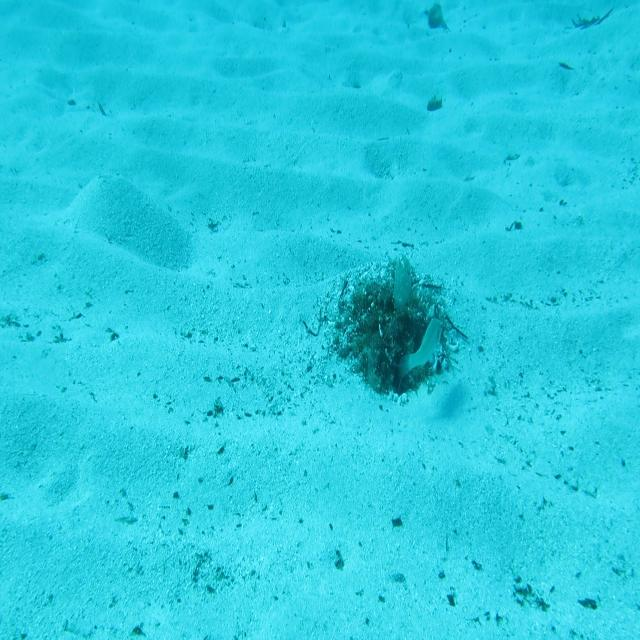NIP_CORE: (391, 249, 413, 312)
female: (397, 315, 444, 380)
nest: (332, 270, 465, 401)
